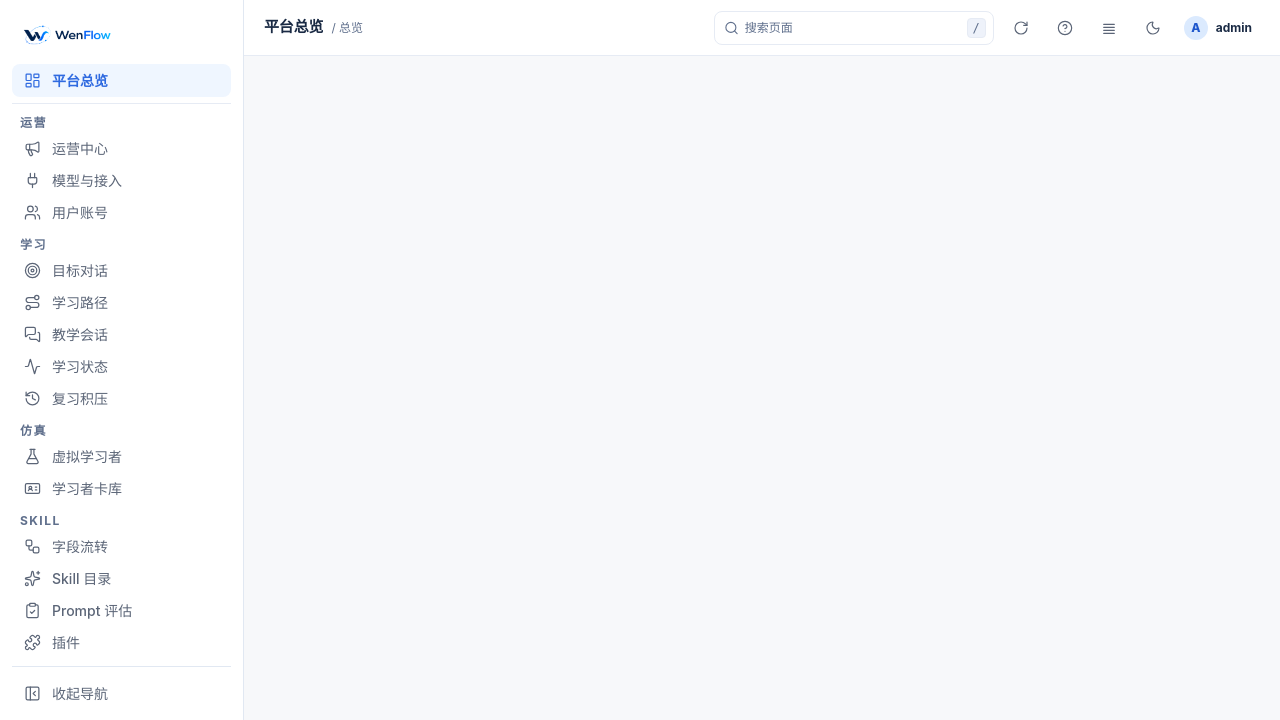
顶栏搜索 · 转搜出口 › 有页面命中时不出现转搜出口
Type "成本" into the dropdown with class "mshell__search-input".
click(854, 28); type("成本")  # box x1=714 y1=10 x2=994 y2=44
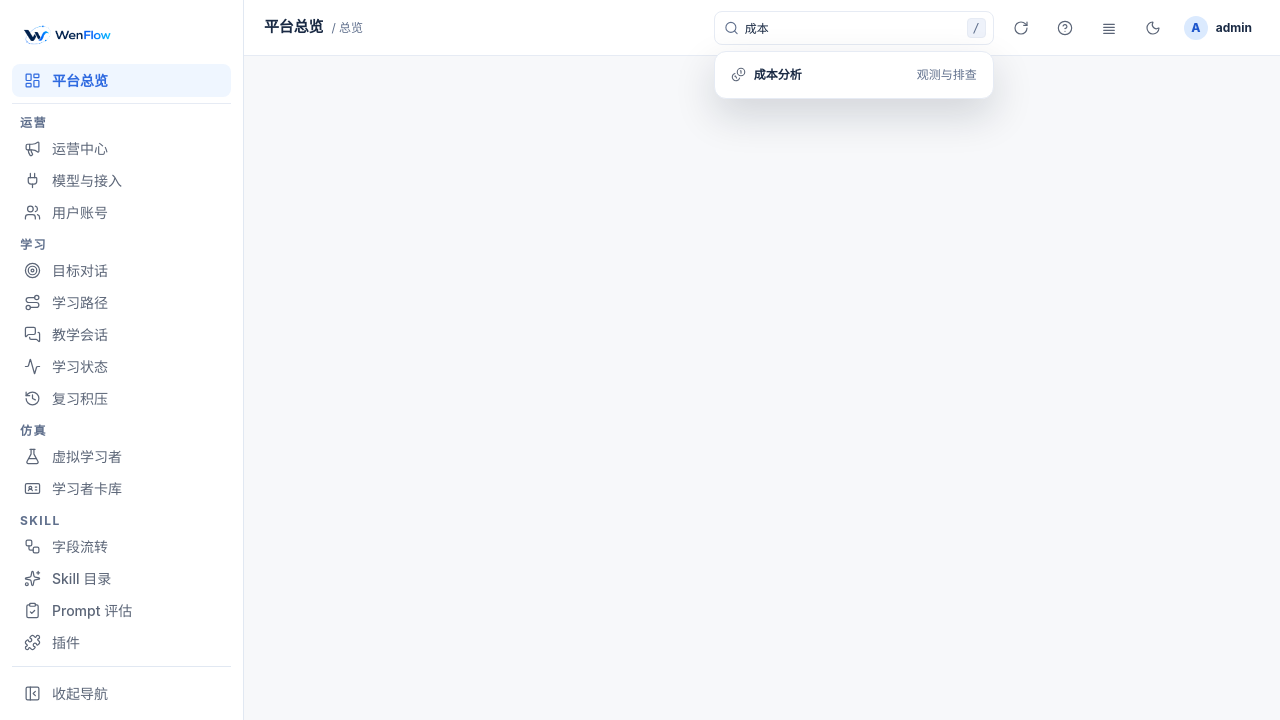
Now the text "成本分析" is shown, box x1=754 y1=66 x2=802 y2=84
